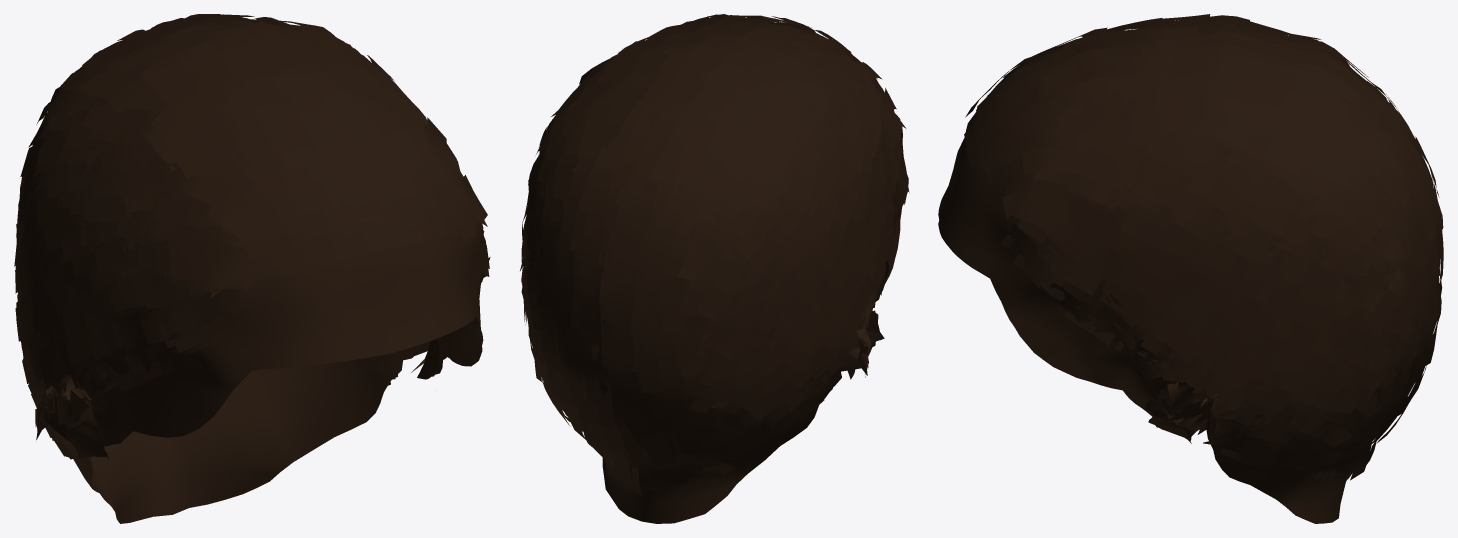
File: hair_fringe_white.glb
3 renders of one model, left to right at view 1: azimuth 30°, elevation 25°; view 2: azimuth 150°, elevation 25°; view 3: azimuth 270°, elevation 25°, orthographic. The views are drawn at different scales.
Parts seen in each view (by area): view 1: hair_fringe_white; view 2: hair_fringe_white; view 3: hair_fringe_white.
Boxes of the visible parts, box(x1,y1,x2,y2) form: hair_fringe_white: box(14, 14, 490, 523); hair_fringe_white: box(520, 14, 909, 523); hair_fringe_white: box(938, 14, 1443, 523).
Bounding box in the file's own units: 0.1873 × 0.2325 × 0.2251.
